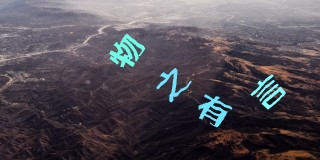之: (156, 67, 192, 102)
有: (197, 93, 233, 128)
物: (109, 33, 145, 68)
言: (249, 74, 287, 110)
